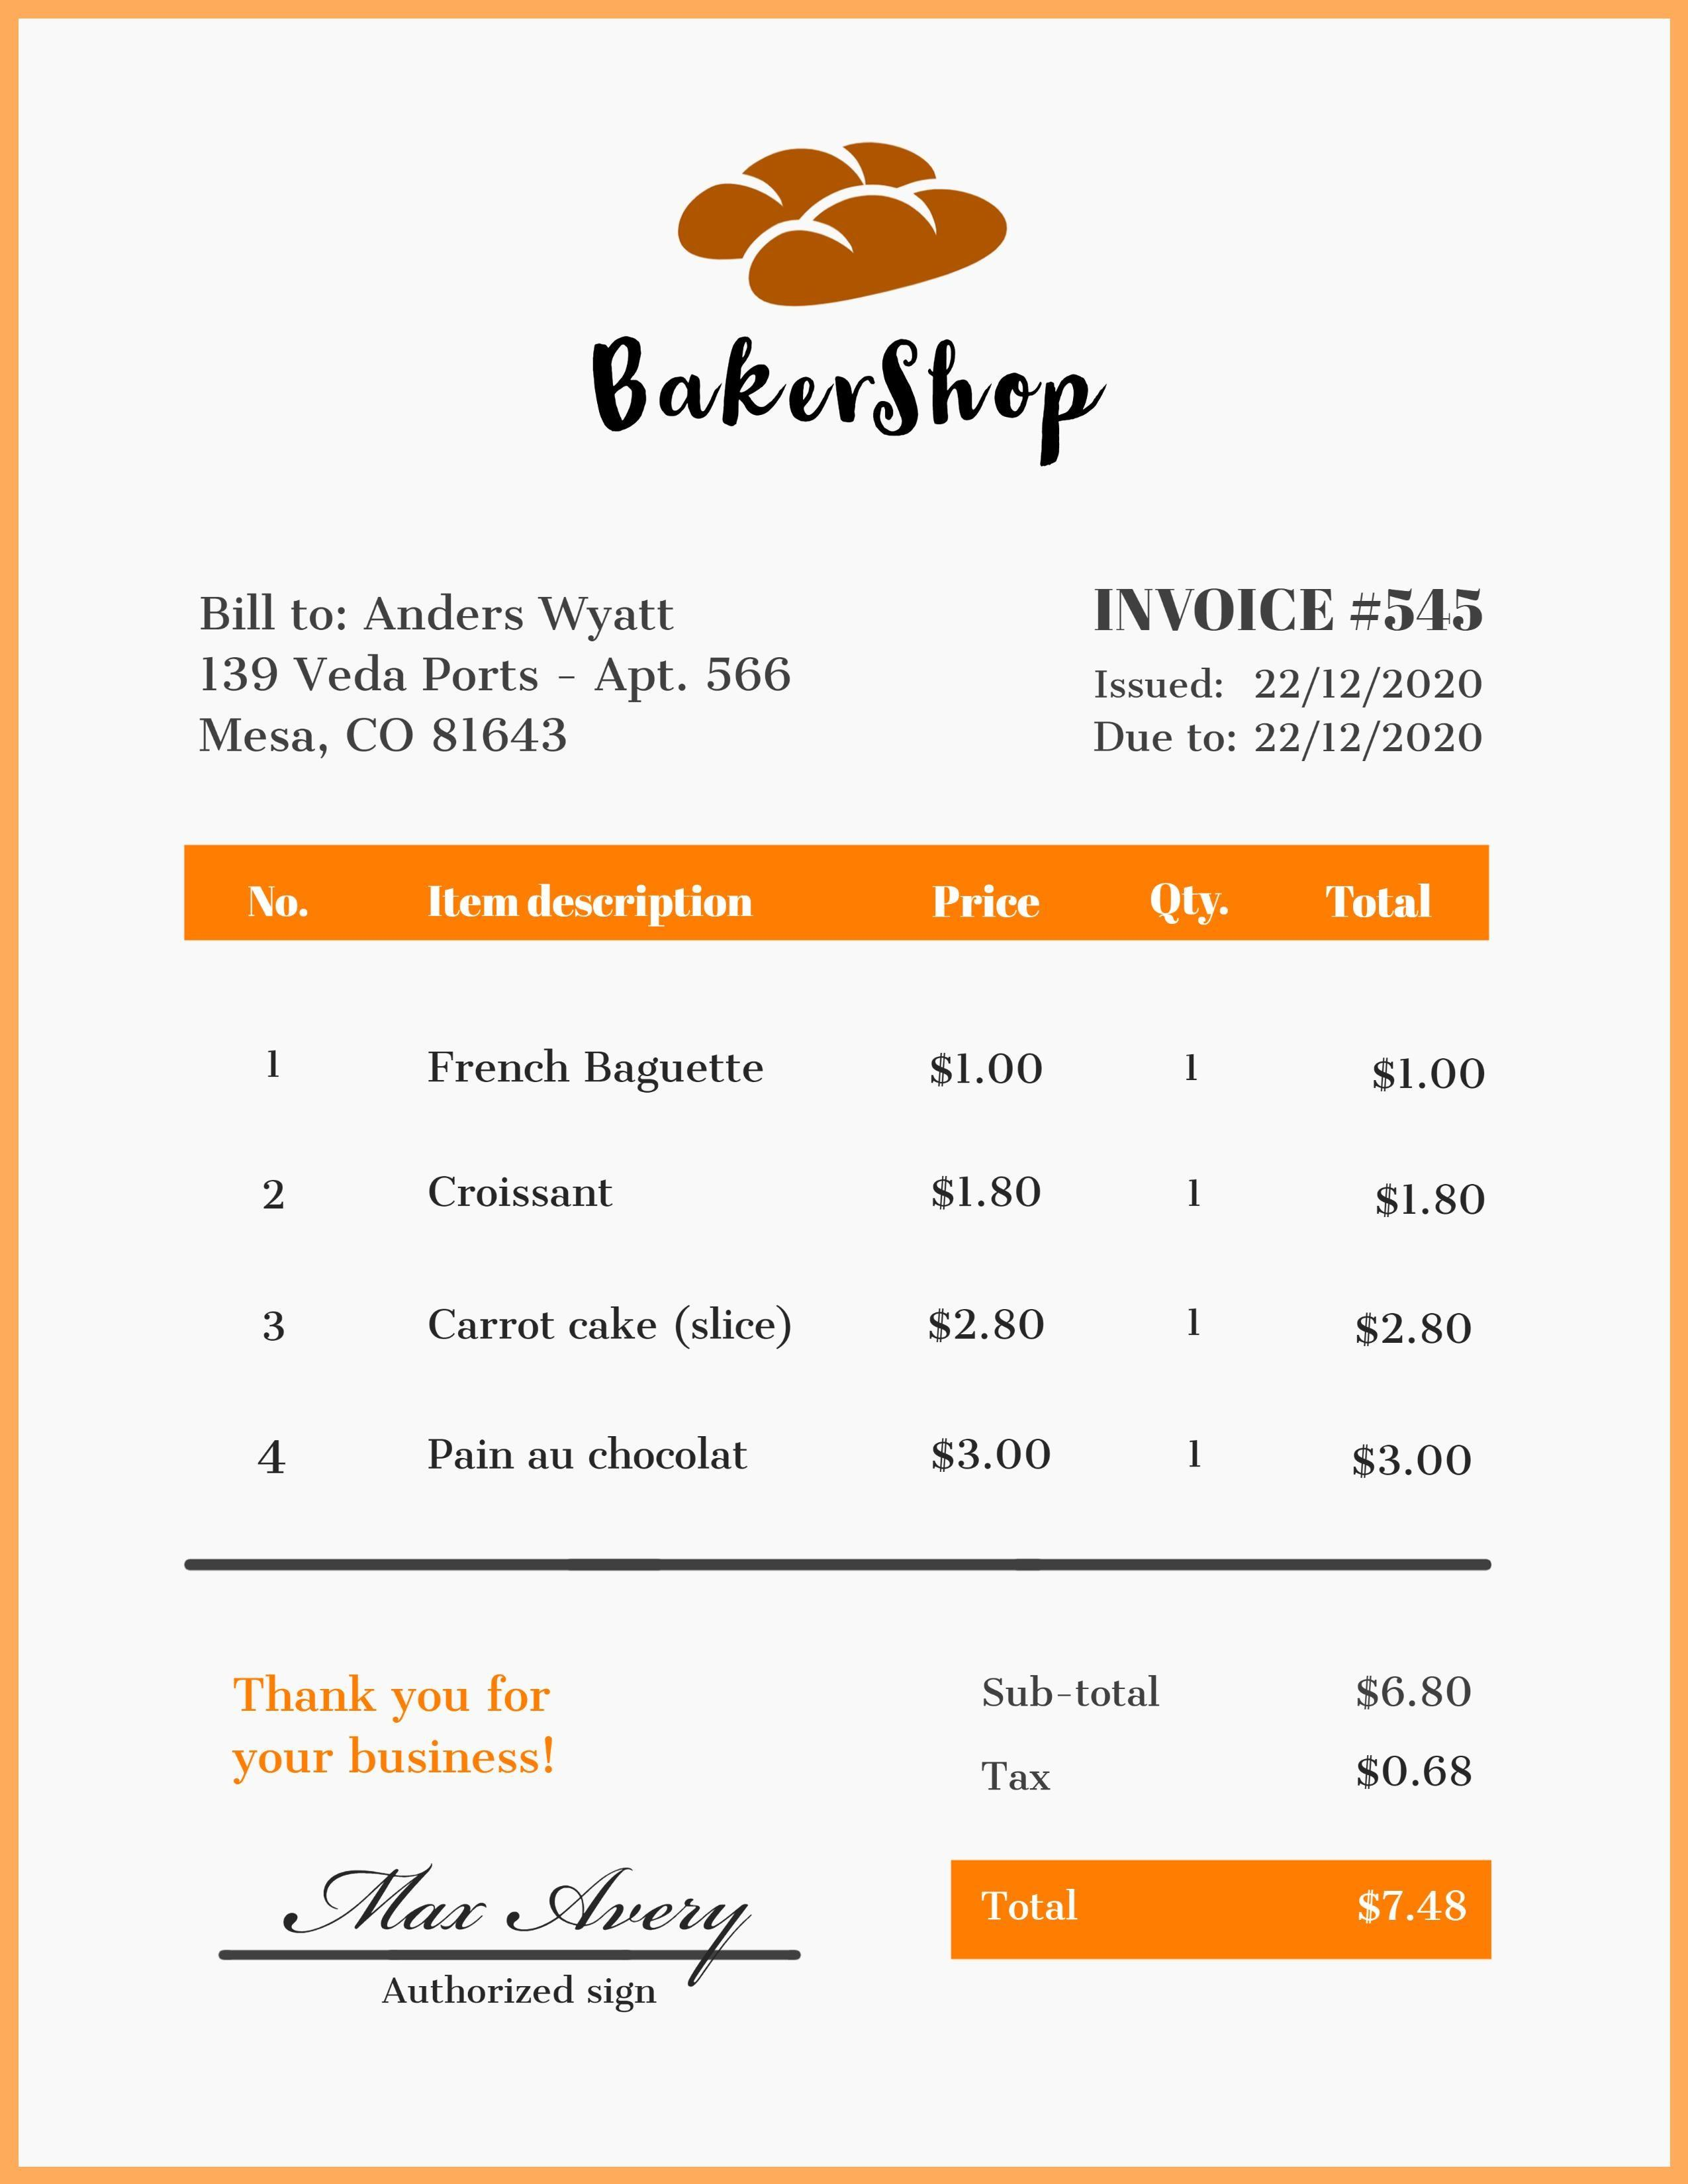ROI: (186, 840, 1500, 1535), (956, 1654, 1493, 1959), (186, 585, 801, 764), (1082, 576, 1497, 775), (585, 314, 1115, 463)
